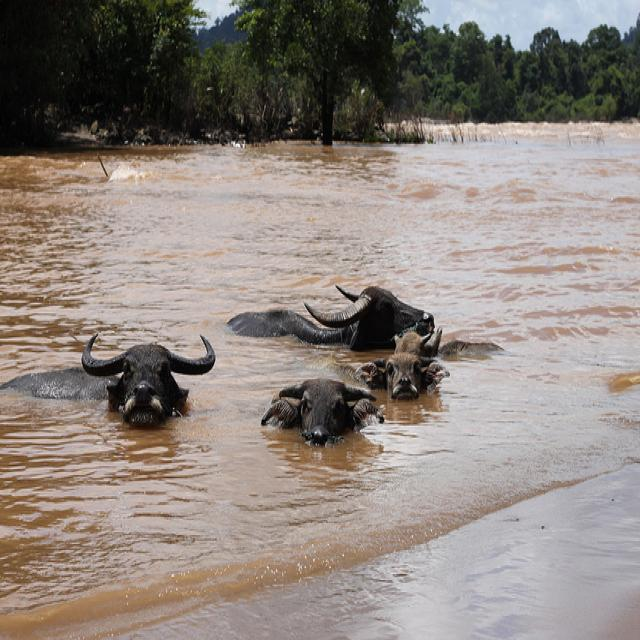cow: (4, 327, 215, 424), (226, 285, 434, 349), (256, 376, 383, 448), (336, 348, 449, 400), (393, 325, 505, 354), (364, 283, 397, 297)
